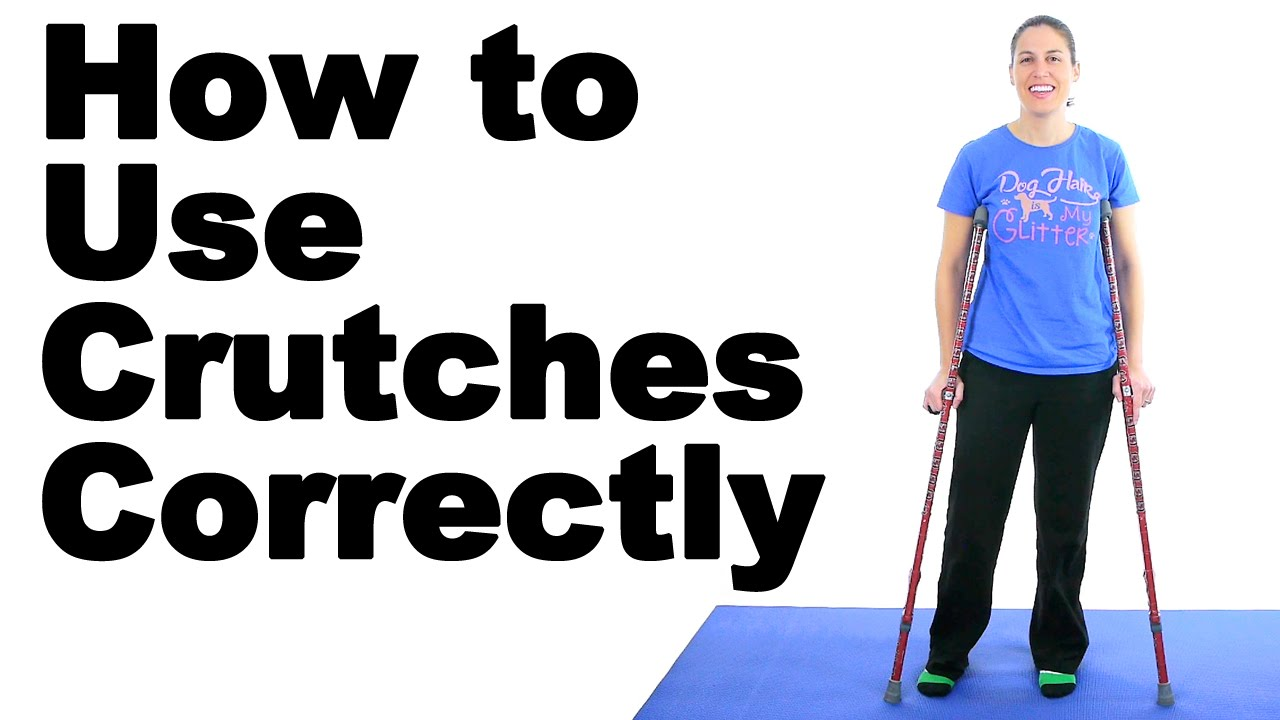crutches: (881, 16, 1176, 709)
